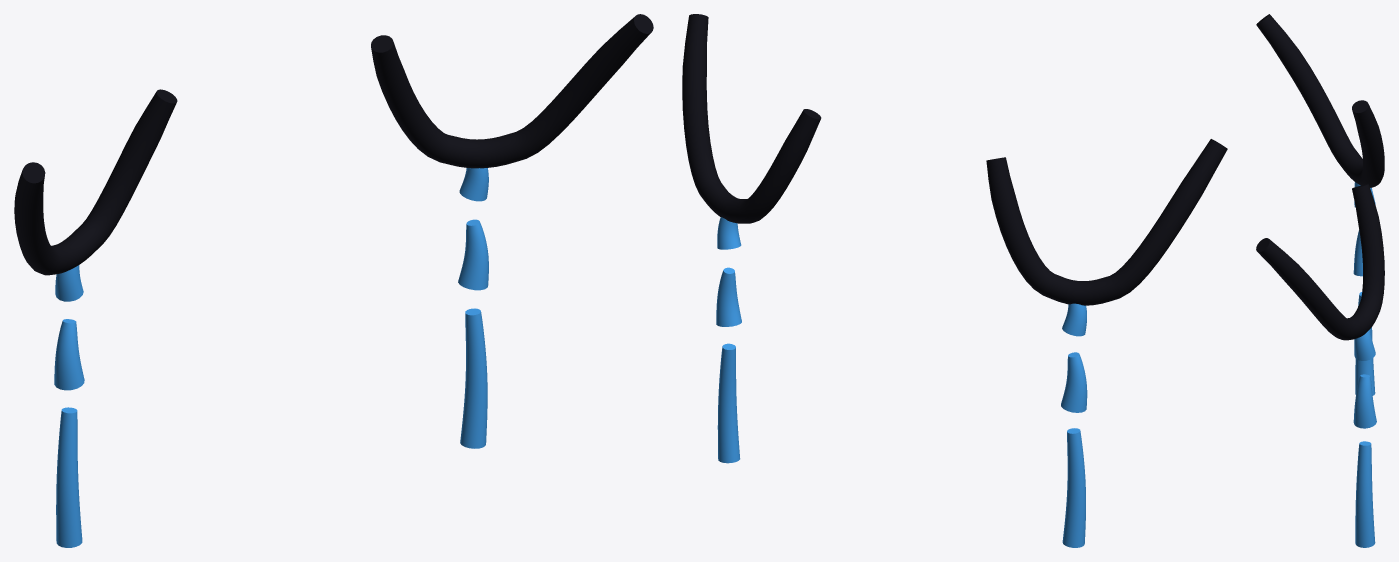
The model's file is Ghost_Eyes_Fail.obj.
3 views of the same model, side by side, from view 1: azimuth 30°, elevation 25°; view 2: azimuth 150°, elevation 25°; view 3: azimuth 270°, elevation 25° (orthographic). The views are drawn at different scales.
Parts seen in each view (by area): view 1: Ghost_Eyes, Ghost_Pupils; view 2: Ghost_Eyes, Ghost_Pupils; view 3: Ghost_Eyes, Ghost_Pupils.
Part boxes in pixels (x1,y1,x2,y2): Ghost_Eyes: [14, 14, 653, 275]; Ghost_Pupils: [54, 168, 488, 547]; Ghost_Eyes: [682, 14, 1227, 305]; Ghost_Pupils: [716, 217, 1087, 547]; Ghost_Eyes: [1256, 14, 1384, 340]; Ghost_Pupils: [1353, 182, 1376, 547].
Size of the model in its own units: 1.4 by 0.9617 by 0.3281.
